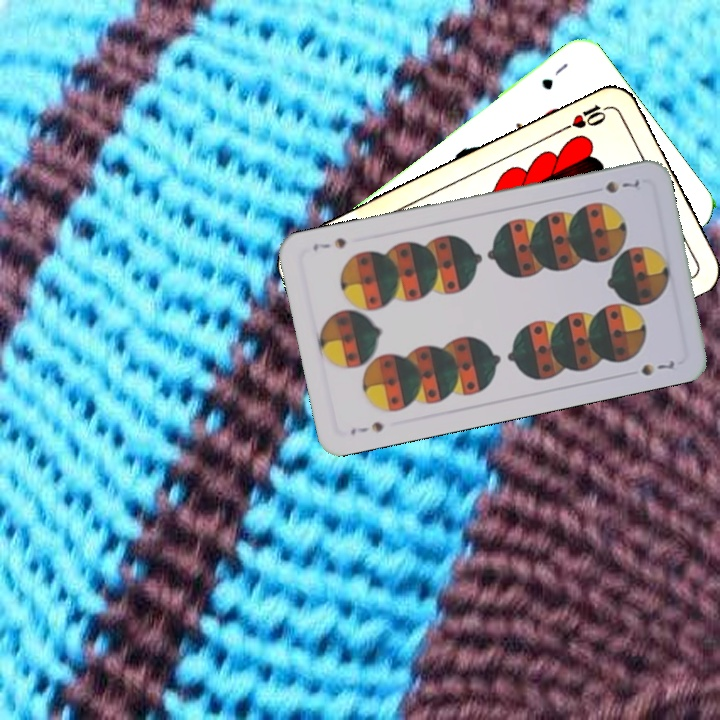GU: (537, 58, 571, 93)
H10: (558, 100, 614, 133)
S7: (346, 417, 387, 438), (601, 176, 644, 196)
